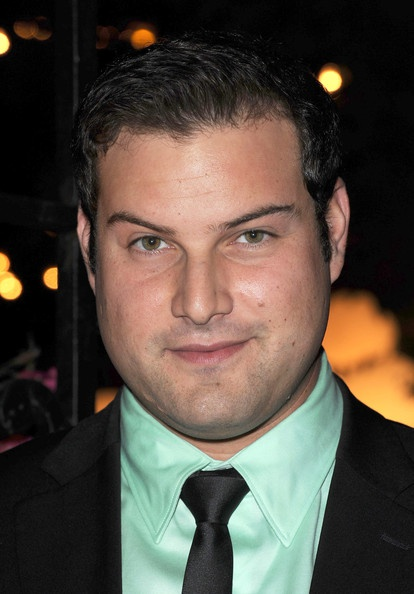bad: (92, 192, 315, 415)
